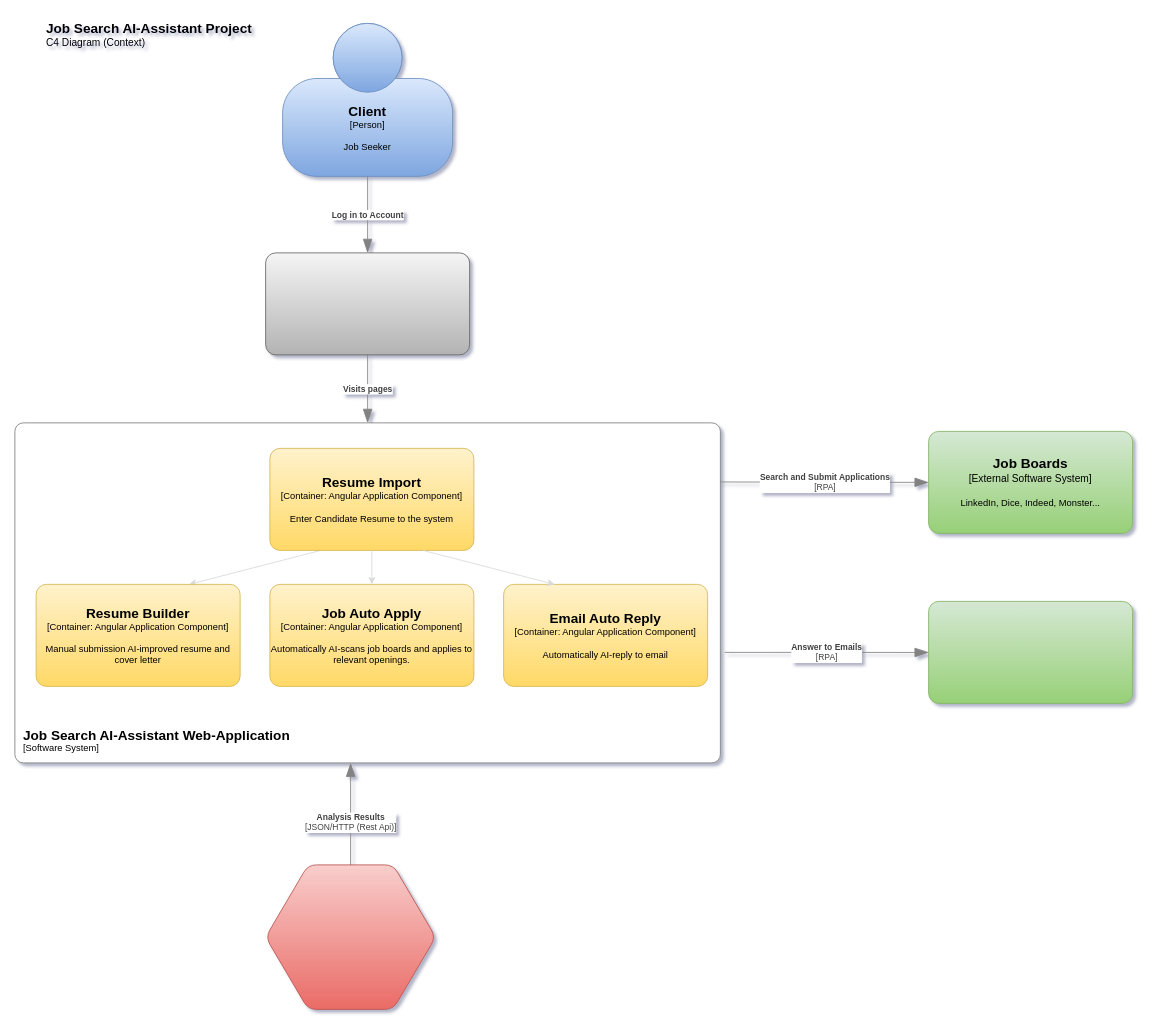
The diagram is 1153 pixels wide and 1029 high, and some of its shapes have lost their labels. The shapes that lost their labels are listed below. From the top down, each one's centre as x and y in pixels, then its label:
[367,303]: SSO [External Software System] Single Sign On (Gmail, Facebook, Apple...)
[1030,652]: Email Provider [External Software System] Gmail, Outlook, Apple...
[350,936]: AI Service [External Software System] OpenAI Assistant Api
